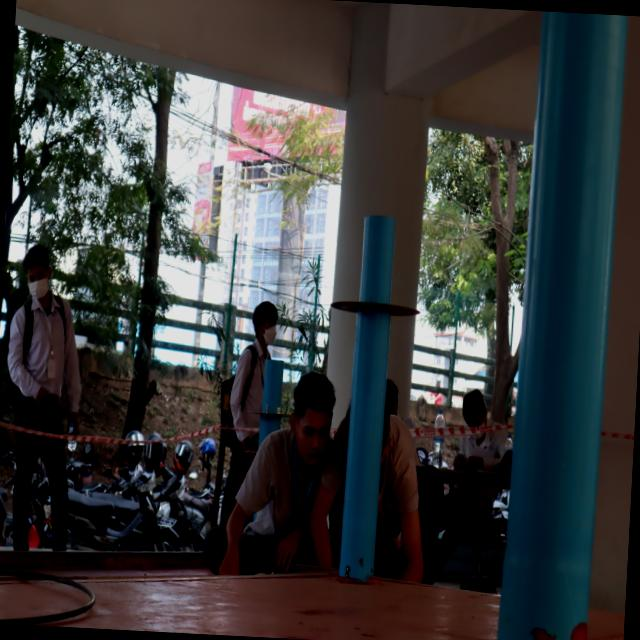pole: (325, 212, 428, 394)
